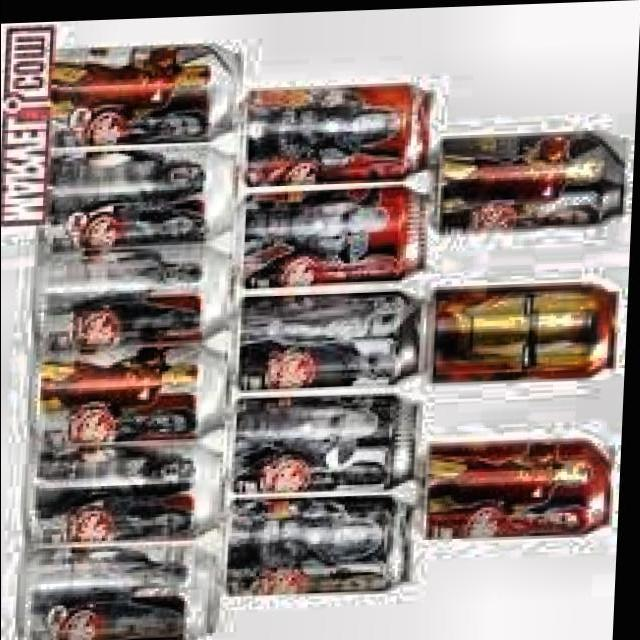litter: (42, 31, 246, 148), (422, 276, 628, 391), (422, 431, 625, 546), (428, 124, 631, 236), (34, 238, 240, 347), (225, 489, 427, 600), (235, 280, 434, 392), (235, 76, 439, 185), (21, 436, 230, 542), (238, 180, 438, 290), (28, 338, 238, 442), (18, 538, 230, 640), (44, 138, 242, 244), (230, 388, 429, 493)
